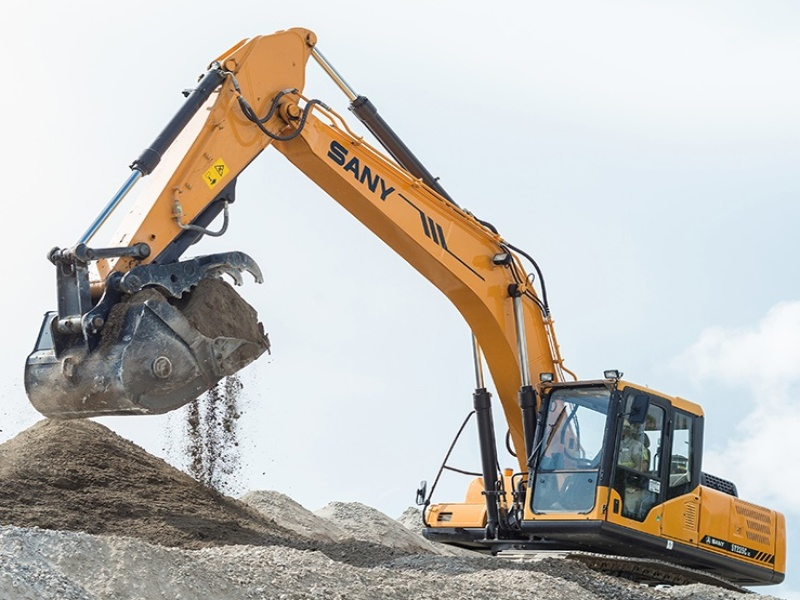wajueji: (324, 157, 789, 600)
